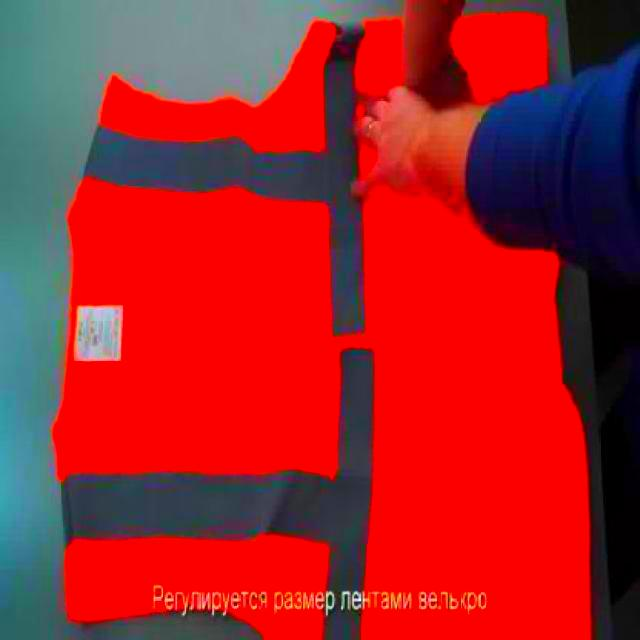Mask: (51, 7, 594, 638)
